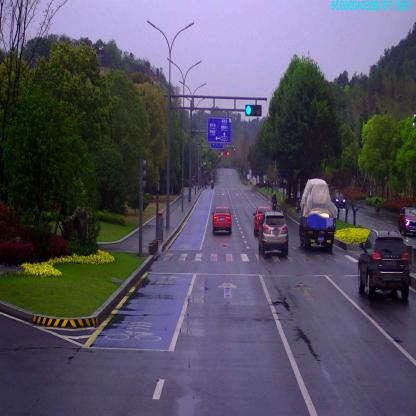traffic-light: (243, 103, 262, 119)
